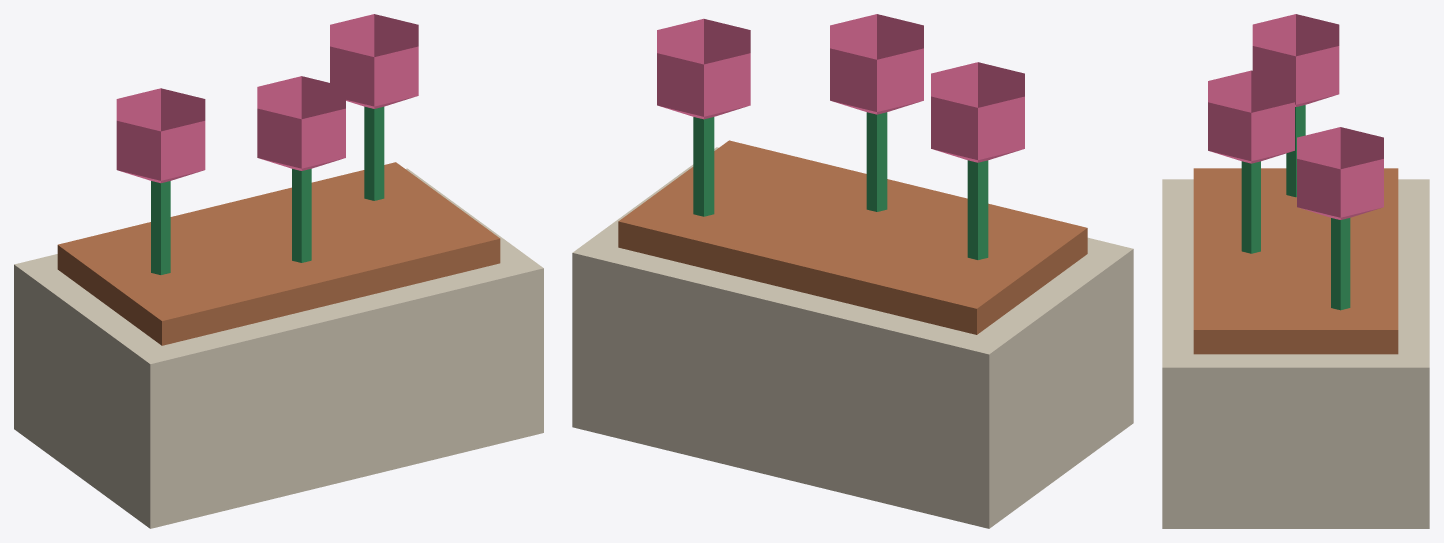
Rendered from 19_flower_planter.obj.
3 renders of one model, left to right at view 1: azimuth 30°, elevation 25°; view 2: azimuth 150°, elevation 25°; view 3: azimuth 270°, elevation 25°, orthographic. The views are drawn at different scales.
Parts seen in each view (by area): view 1: part_0, part_1, part_3, part_5, part_7, part_6, part_4, part_2; view 2: part_0, part_1, part_3, part_7, part_5, part_6, part_2, part_4; view 3: part_0, part_1, part_7, part_5, part_3, part_4, part_6, part_2.
Part boxes in pixels (x1,y1,x2,y2): part_0: [14, 168, 543, 528]; part_1: [57, 162, 500, 345]; part_3: [116, 88, 205, 183]; part_5: [257, 76, 345, 170]; part_7: [330, 14, 418, 108]; part_6: [364, 106, 384, 200]; part_4: [292, 168, 311, 262]; part_2: [151, 181, 170, 274]; part_0: [572, 147, 1133, 528]; part_1: [618, 140, 1087, 334]; part_3: [931, 62, 1024, 162]; part_7: [657, 18, 750, 119]; part_5: [830, 14, 923, 114]; part_6: [693, 117, 714, 216]; part_2: [967, 160, 988, 259]; part_4: [866, 112, 887, 211]; part_0: [1162, 179, 1429, 528]; part_1: [1193, 168, 1398, 354]; part_7: [1297, 127, 1383, 219]; part_5: [1208, 70, 1294, 163]; part_3: [1252, 14, 1339, 106]; part_4: [1241, 161, 1260, 253]; part_6: [1331, 218, 1350, 310]; part_2: [1286, 105, 1305, 197].
Size of the model in its own units: 1 by 0.85 by 0.6.
